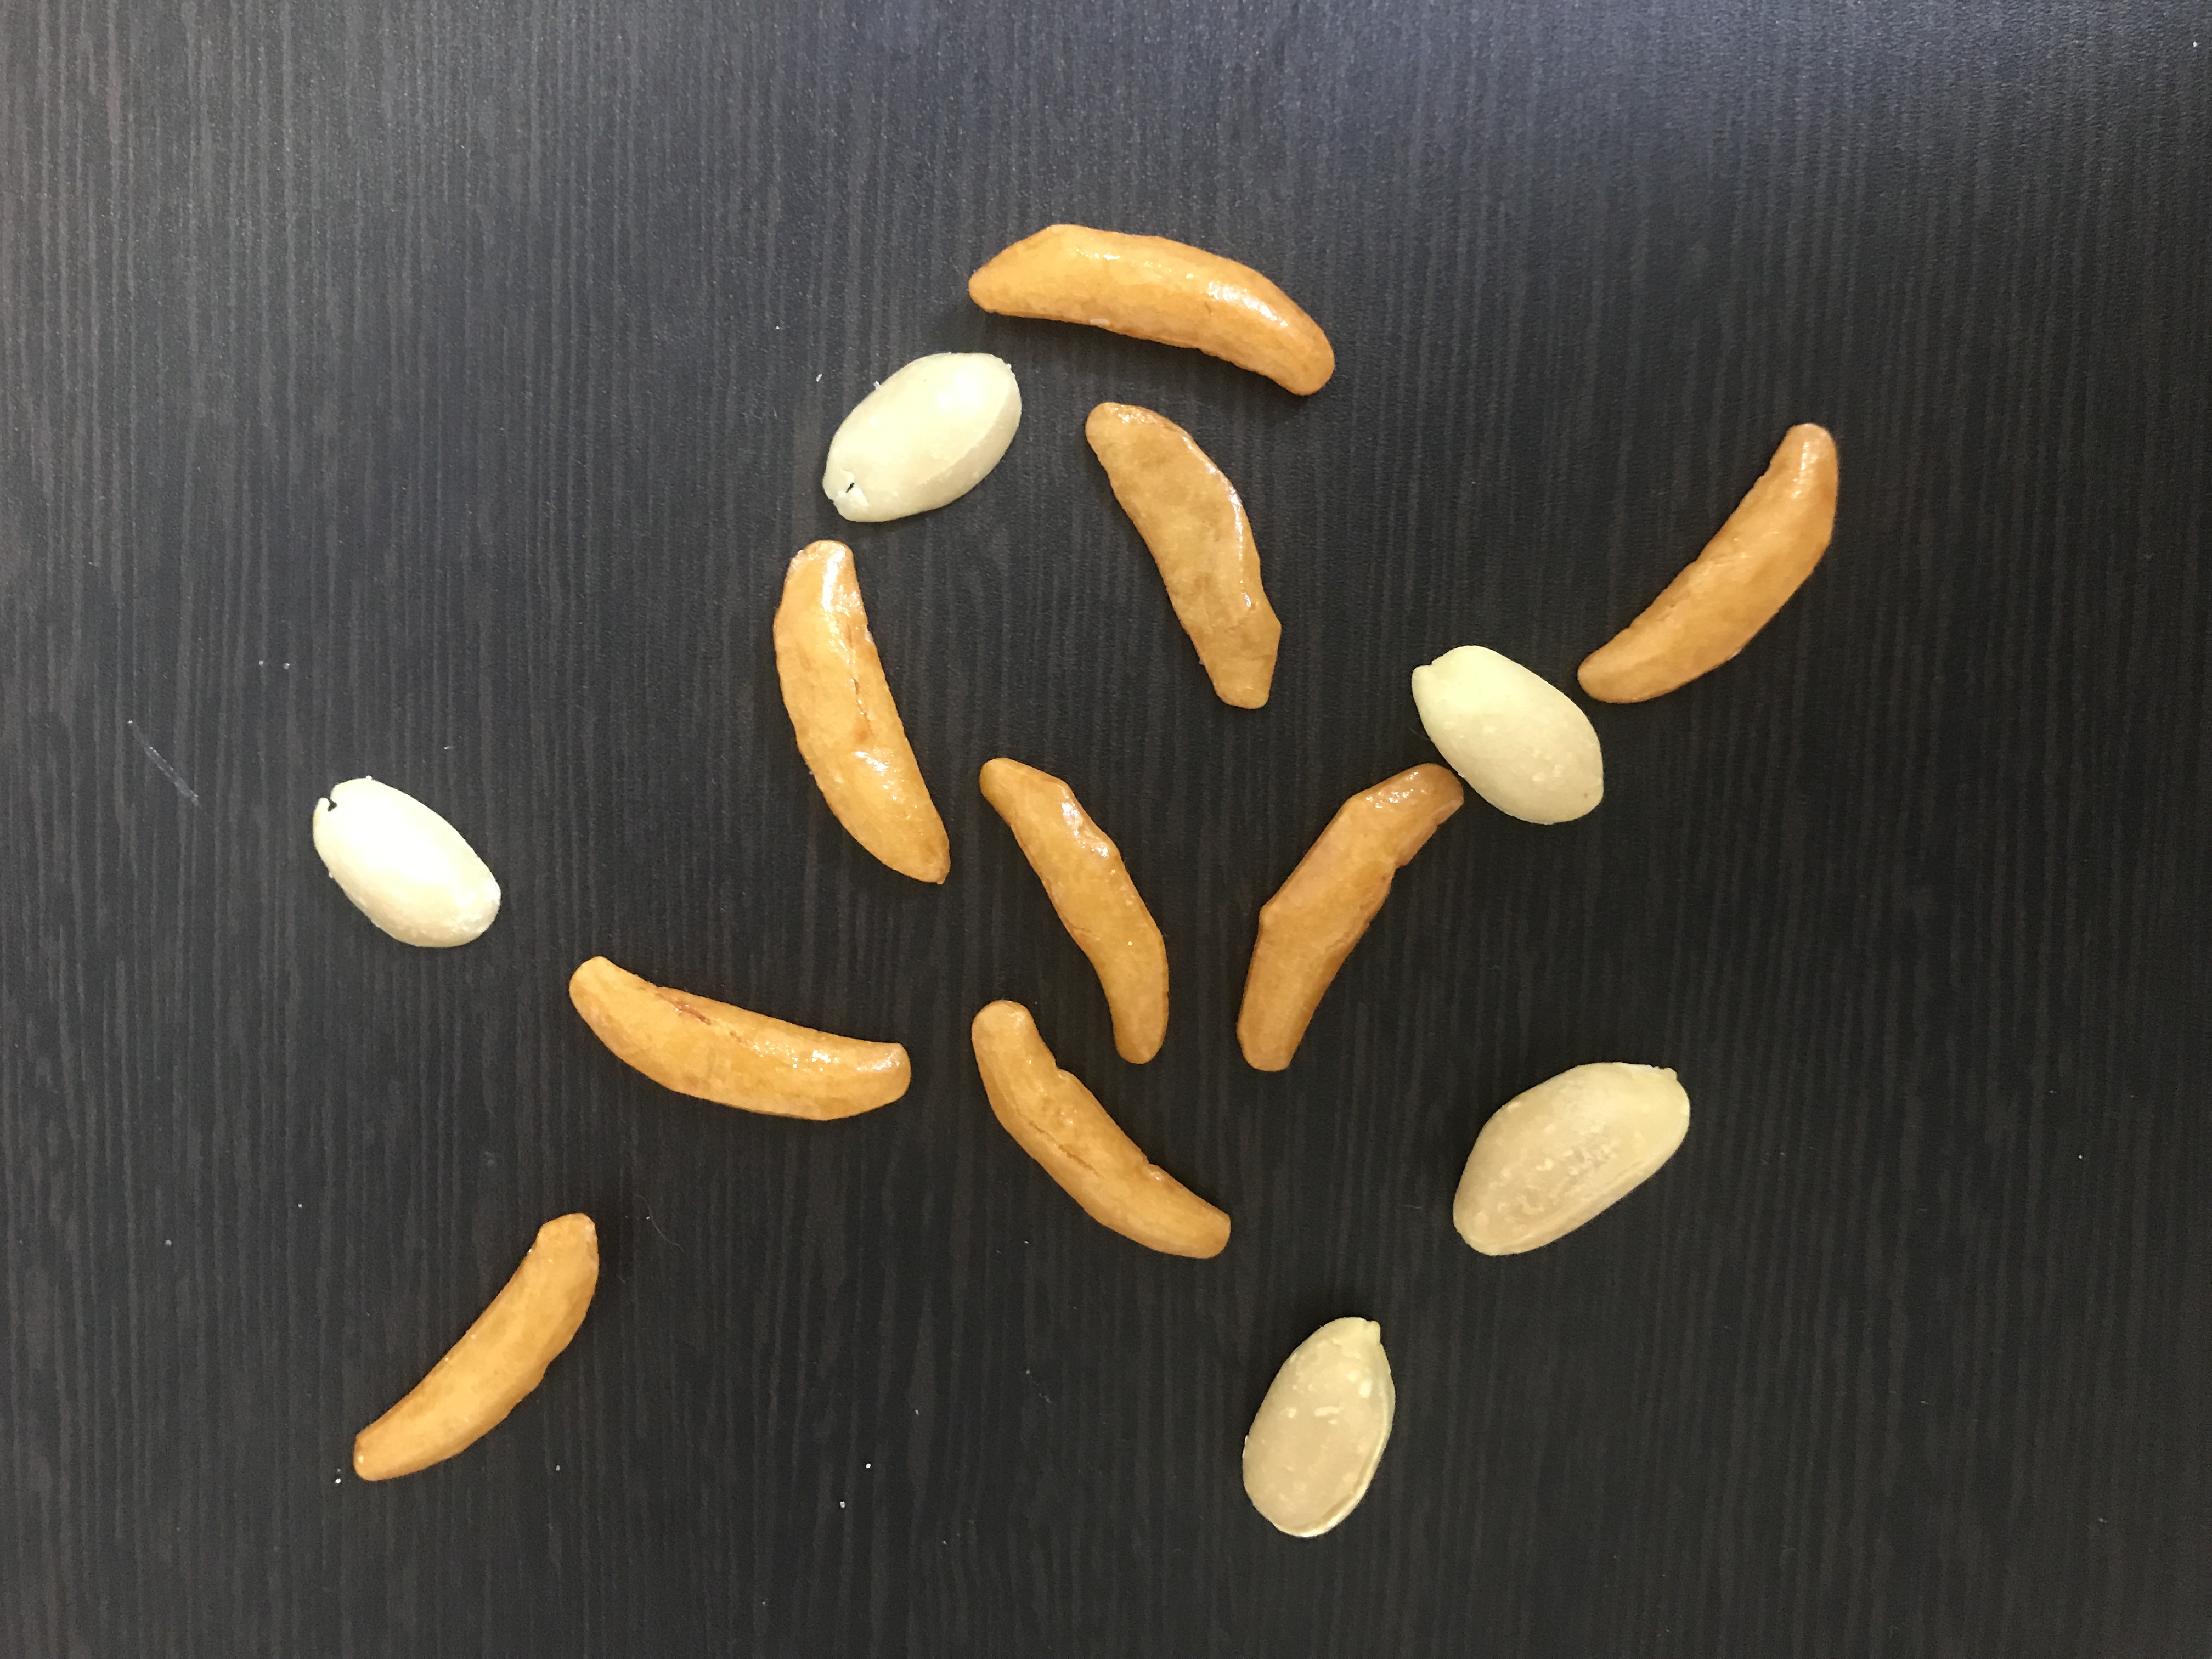peanut: (1449, 1056, 1700, 1267), (1230, 1309, 1404, 1549), (817, 345, 1035, 525), (1407, 641, 1611, 830), (308, 769, 503, 957)
